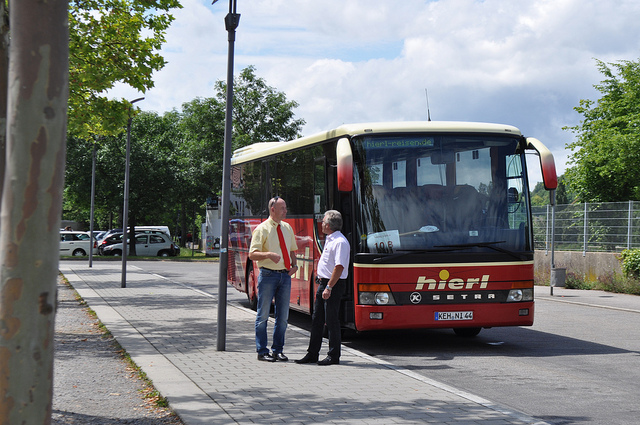Bus: (231, 139, 543, 333)
Person: (246, 189, 298, 367), (315, 211, 342, 369)
